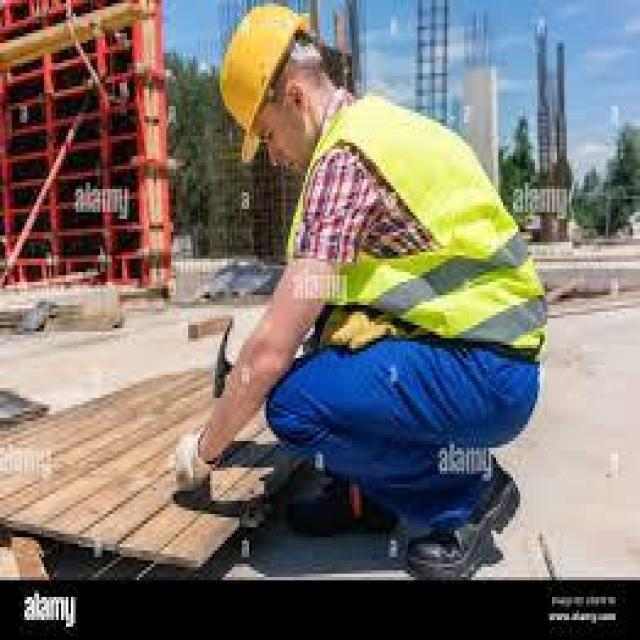safety_helmet: (276, 95, 553, 354)
